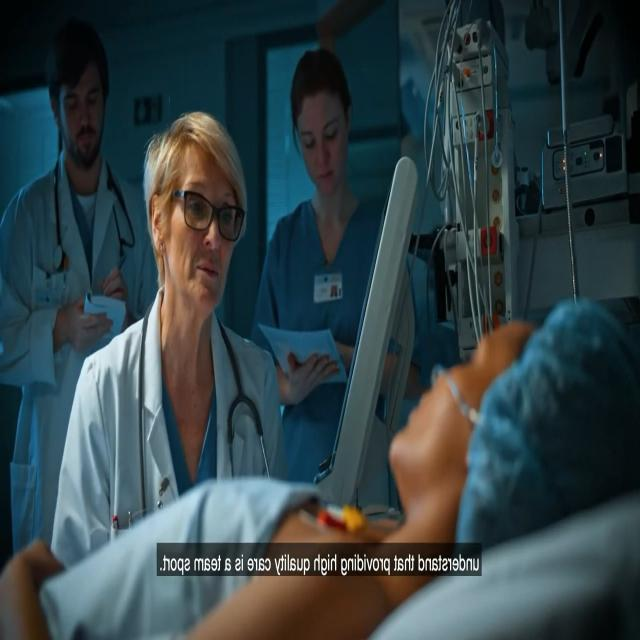Doctor: (116, 104, 258, 512), (0, 25, 148, 338)
Nurse: (260, 37, 400, 343)
Patient: (362, 268, 640, 617)
